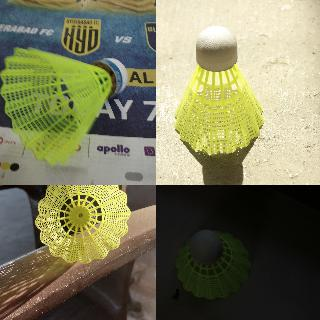shuttlecock: (0, 46, 127, 164), (174, 26, 264, 152), (34, 185, 130, 264), (174, 229, 250, 299)
